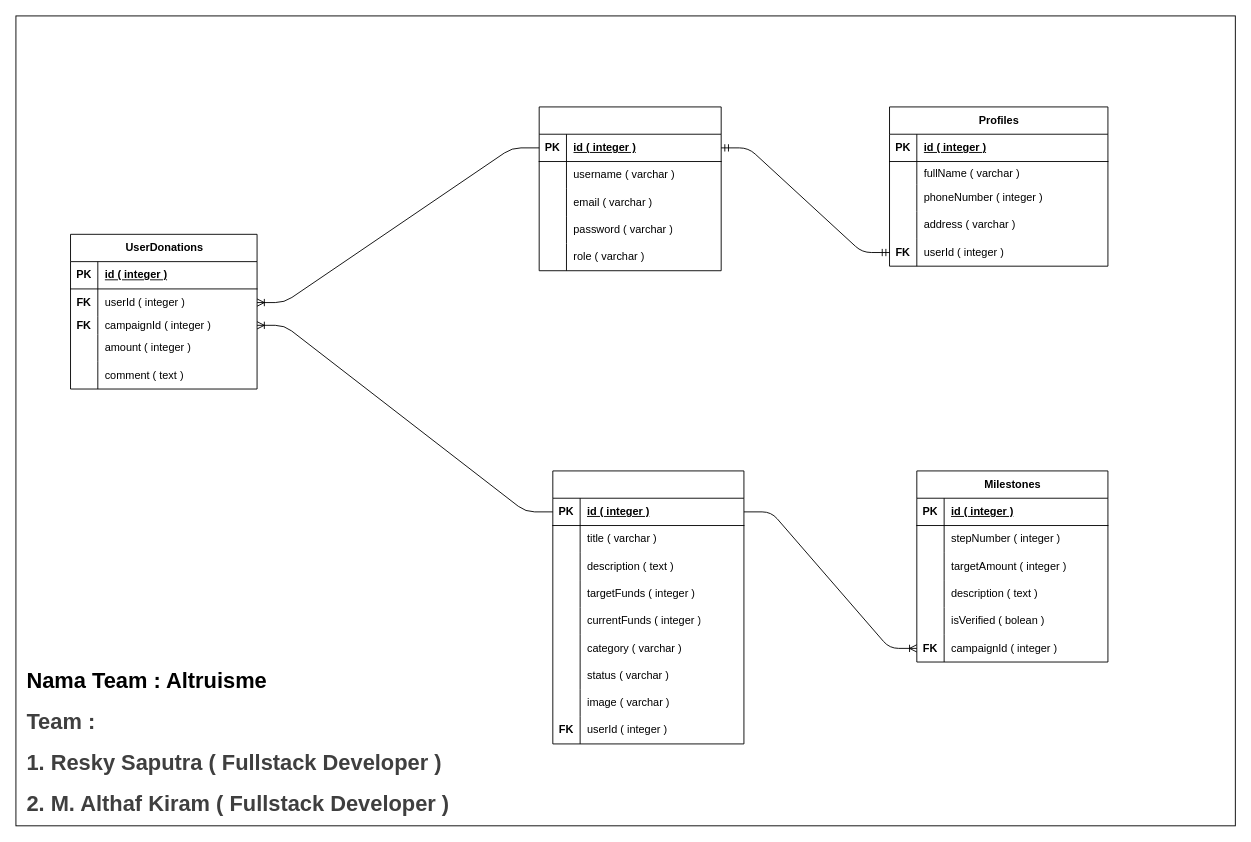
Some shapes in this 1251 by 842 pixel diagram are drawn without their labels. The shapes that lost their labels are listed below. From the top down, each one's box as (x1, y1, x2, y2) in pixels, then its label:
(538, 106, 721, 271): Users
(552, 470, 744, 744): Campaigns
